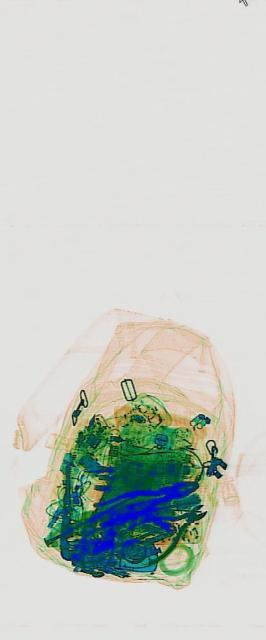Pliers: (125, 476, 209, 576), (91, 467, 197, 533)
